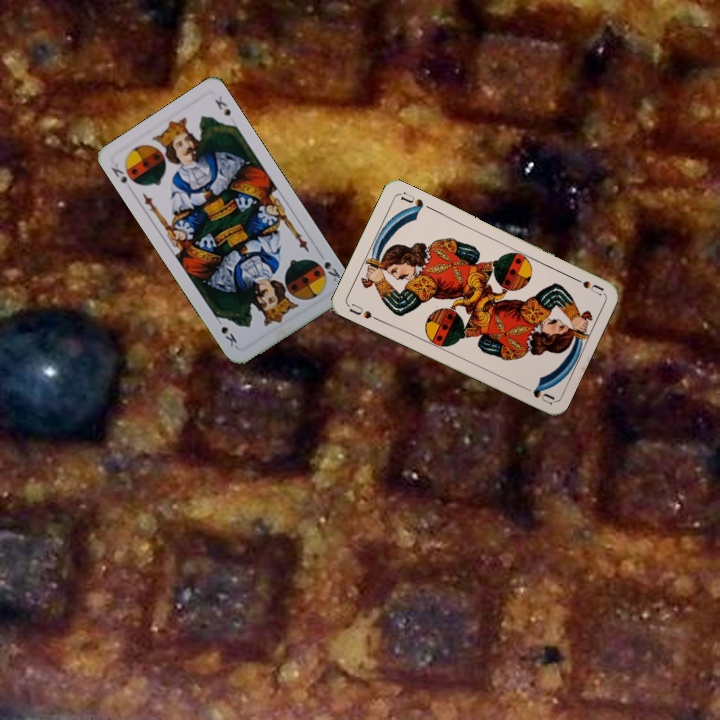SK: (107, 160, 135, 194), (320, 257, 343, 285)
SU: (567, 272, 606, 298), (344, 299, 383, 324)
